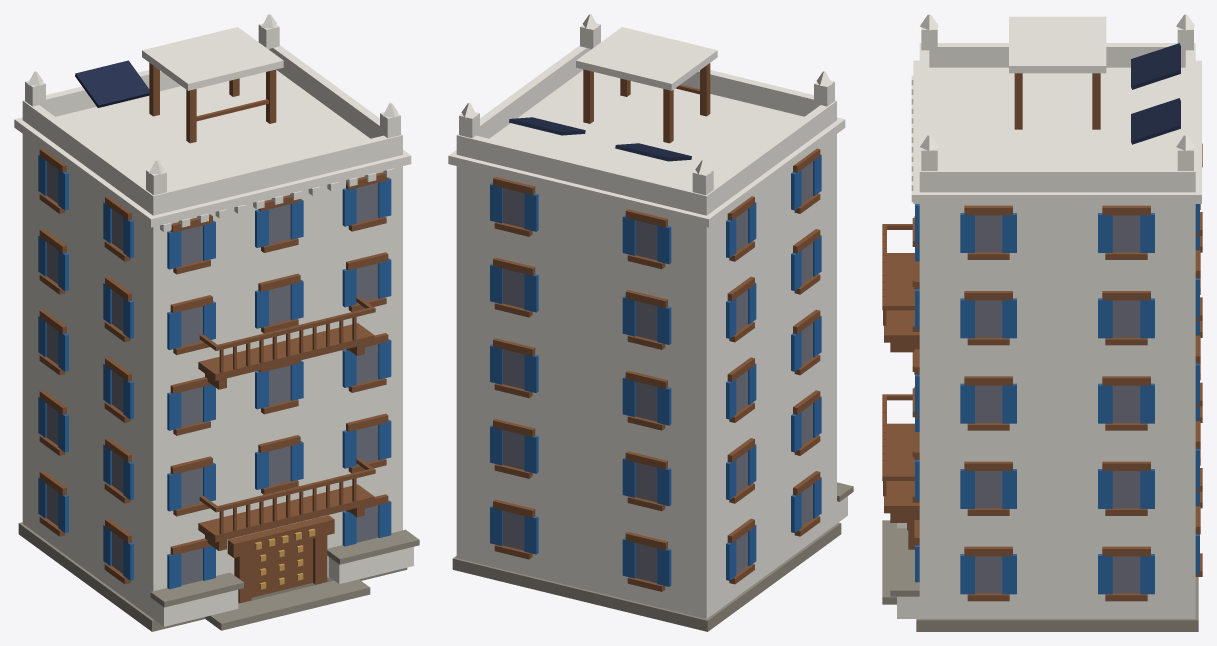
Rendered from house-1x1-5f-swahili-a-solar.glb.
3 renders of one model, left to right at view 1: azimuth 30°, elevation 25°; view 2: azimuth 150°, elevation 25°; view 3: azimuth 270°, elevation 25°, orthographic. The views are drawn at different scales.
Parts seen in each view (by area): view 1: house-1x1-5f-swahili-a-solar; view 2: house-1x1-5f-swahili-a-solar; view 3: house-1x1-5f-swahili-a-solar.
Part boxes in pixels (bbox=[...]): house-1x1-5f-swahili-a-solar: bbox=[14, 14, 419, 631]; house-1x1-5f-swahili-a-solar: bbox=[448, 14, 853, 631]; house-1x1-5f-swahili-a-solar: bbox=[882, 14, 1202, 631].
Size of the model in its own units: 0.984 by 1.78 by 0.987.
Materials: 1 (1 with a texture image).
